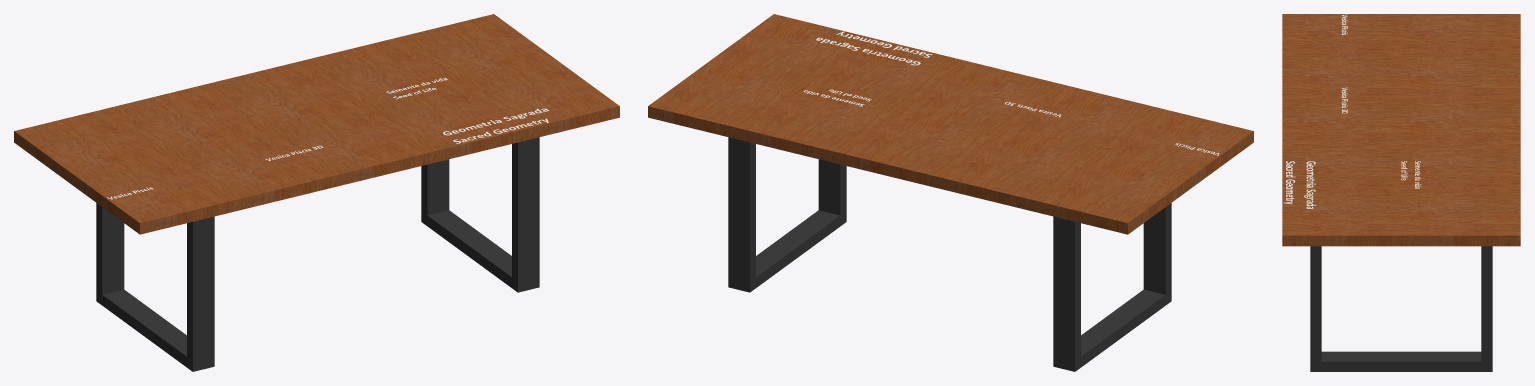
Rendered from geomSagrada1.glb.
3 views of the same model, side by side, from view 1: azimuth 30°, elevation 25°; view 2: azimuth 150°, elevation 25°; view 3: azimuth 270°, elevation 25° (orthographic). The views are drawn at different scales.
Parts seen in each view (by area): view 1: object 1, Composant#1 (×2), Geometria Sagrad; view 2: object 1, Composant#1 (×2), Geometria Sagrad; view 3: object 1, Composant#1, Geometria Sagrad, Semente da vida.
Boxes of the visible parts, x1,y1,x2,y2 form: object 1: (14, 14, 619, 234); Composant#1 (×2): (96, 137, 539, 371); Geometria Sagrad: (443, 108, 548, 143); object 1: (648, 14, 1253, 234); Composant#1 (×2): (728, 137, 1171, 371); Geometria Sagrad: (816, 31, 932, 65); object 1: (1282, 14, 1520, 246); Composant#1: (1310, 246, 1492, 371); Geometria Sagrad: (1283, 161, 1316, 208); Semente da vida: (1401, 161, 1421, 188).
Size of the model in its own units: 2.2 by 0.7711 by 1.
3 materials, 1 textured.
